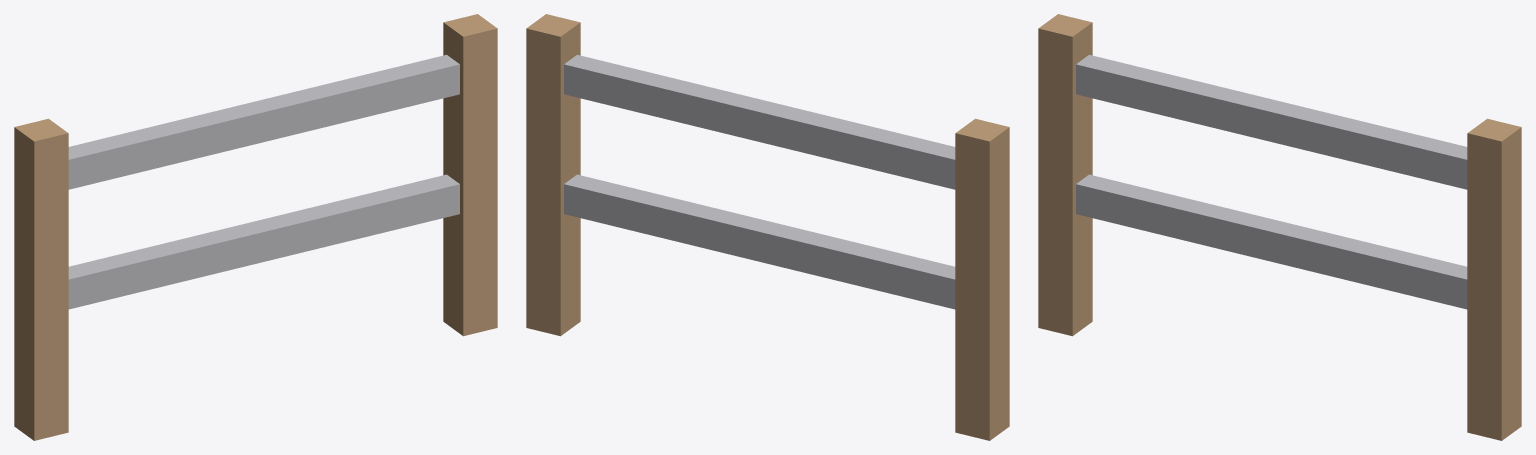
Rendered from Prop_DS_Fence_Gate_17.glb.
3 renders of one model, left to right at view 1: azimuth 30°, elevation 25°; view 2: azimuth 150°, elevation 25°; view 3: azimuth 330°, elevation 25°, orthographic.
Visible parts, largest first — view 1: Cube, Cube.002, Cube.003, Cube.001; view 2: Cube, Cube.002, Cube.003, Cube.001; view 3: Cube.001, Cube.002, Cube.003, Cube.
Part boxes in pixels (left/top/right/bottom): Cube: left=14, top=118, right=68, bottom=440; Cube.002: left=68, top=174, right=459, bottom=309; Cube.003: left=68, top=54, right=459, bottom=189; Cube.001: left=443, top=14, right=497, bottom=336; Cube: left=955, top=118, right=1009, bottom=440; Cube.002: left=564, top=174, right=955, bottom=309; Cube.003: left=564, top=54, right=955, bottom=189; Cube.001: left=526, top=14, right=580, bottom=336; Cube.001: left=1467, top=118, right=1521, bottom=440; Cube.002: left=1076, top=174, right=1467, bottom=309; Cube.003: left=1076, top=54, right=1467, bottom=189; Cube: left=1038, top=14, right=1092, bottom=336.
Bounding box in the file's own units: 1.62 × 1 × 0.12.
